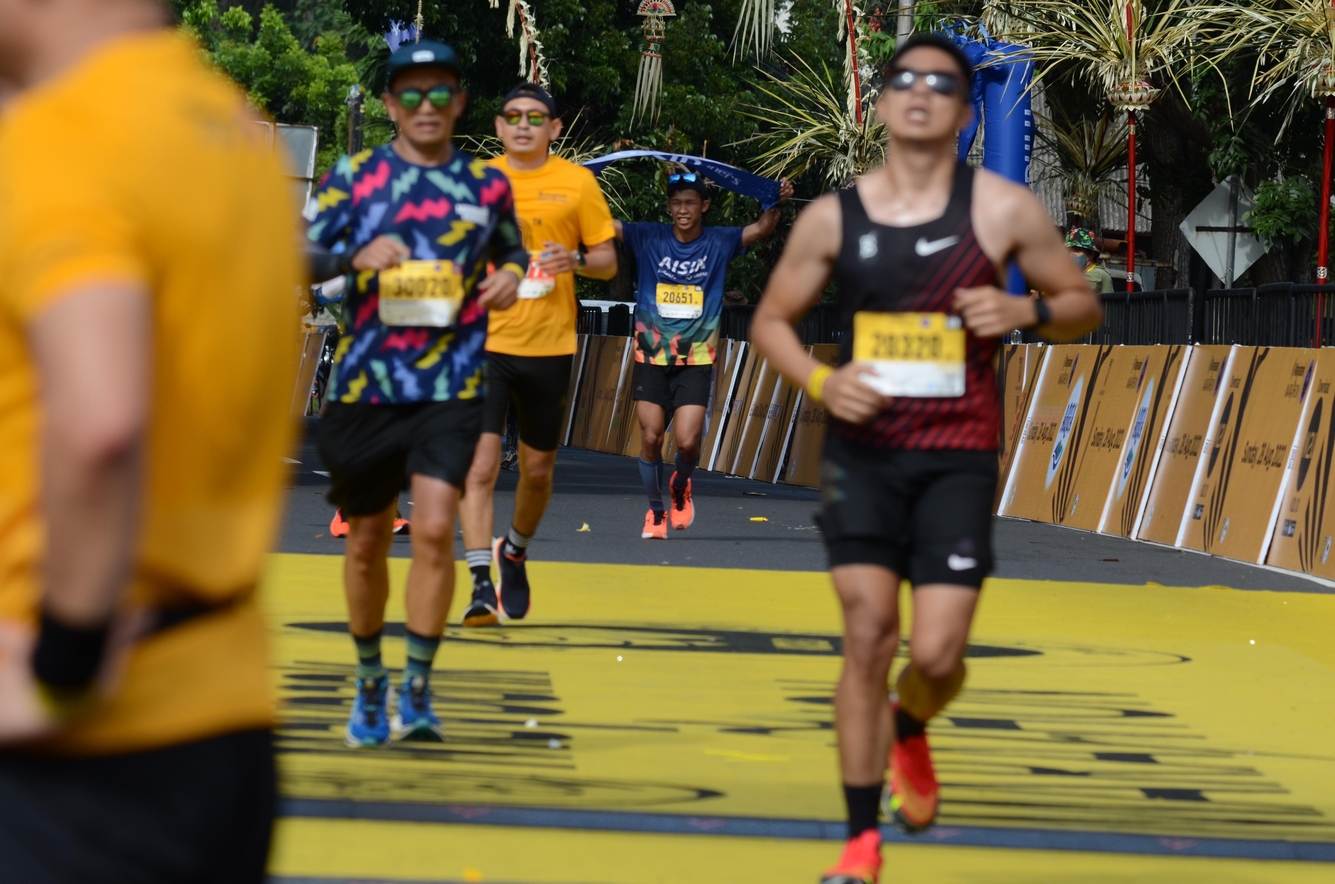bib: (854, 311, 966, 397), (378, 262, 465, 329), (656, 284, 704, 317), (520, 253, 555, 298)
